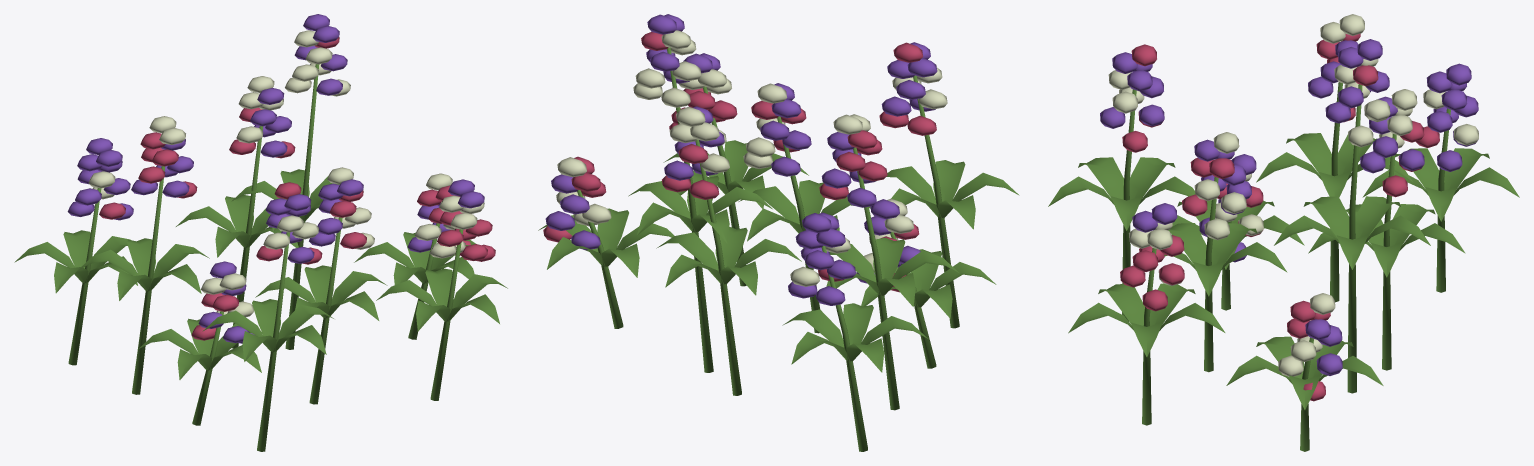
The model's file is sc_lupine.glb.
3 views of the same model, side by side, from view 1: azimuth 30°, elevation 25°; view 2: azimuth 150°, elevation 25°; view 3: azimuth 270°, elevation 25° (orthographic). The views are drawn at different scales.
Visible parts, largest first — view 1: sc_lupine; view 2: sc_lupine; view 3: sc_lupine.
Part boxes in pixels (left/top/right/bottom): sc_lupine: left=14, top=14, right=507, bottom=451; sc_lupine: left=538, top=14, right=1019, bottom=451; sc_lupine: left=1048, top=14, right=1519, bottom=451.
Bounding box in the file's own units: 0.9528 × 0.7402 × 0.8559.
